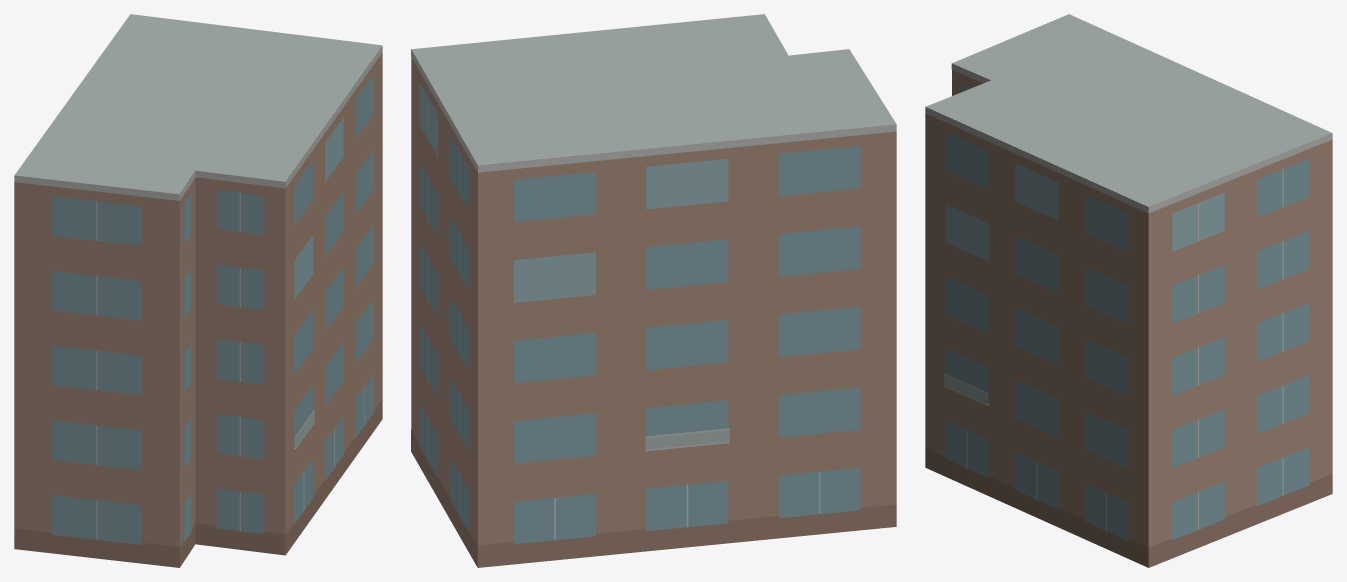
File: survey-upis-32937264.glb
3 views of the same model, side by side, from view 1: azimuth 30°, elevation 25°; view 2: azimuth 150°, elevation 25°; view 3: azimuth 270°, elevation 25° (orthographic). The views are drawn at different scales.
Visible parts, largest first — view 1: survey-upis-32937264.tmp; view 2: survey-upis-32937264.tmp; view 3: survey-upis-32937264.tmp.
Part boxes in pixels (<box>): survey-upis-32937264.tmp: <box>14,14,382,567</box>; survey-upis-32937264.tmp: <box>411,14,896,567</box>; survey-upis-32937264.tmp: <box>925,14,1332,567</box>.
Bounding box in the file's own units: 15.73 × 13.7 × 14.01.
